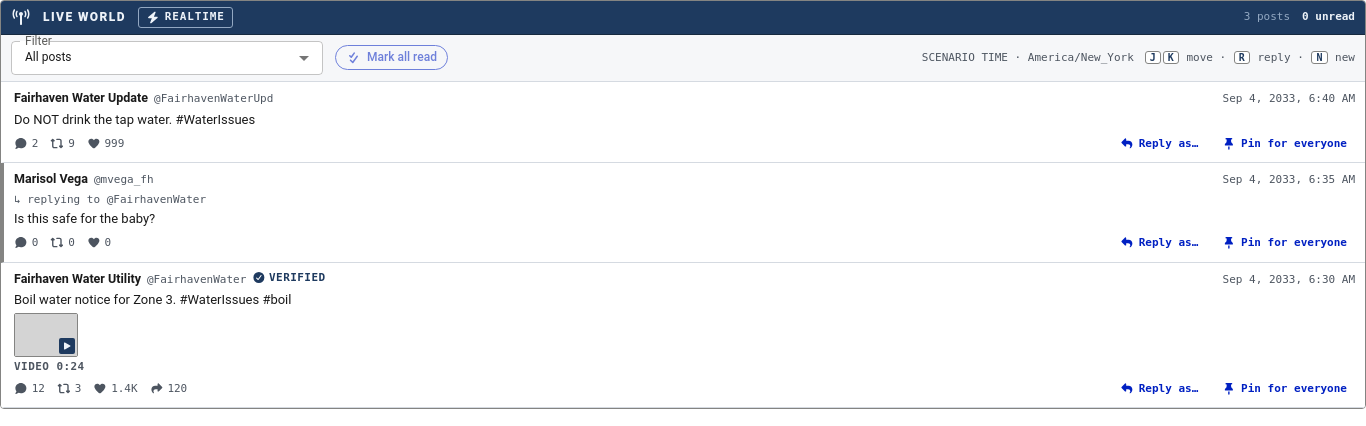
Scenario: AC4 — filters › says so when nothing matches, rather than showing a blank list
Select "Fulton County EM (@FulcoEM)" in the dropdown with test id "live-world-filter" at (167, 58), box [11,40,323,75]
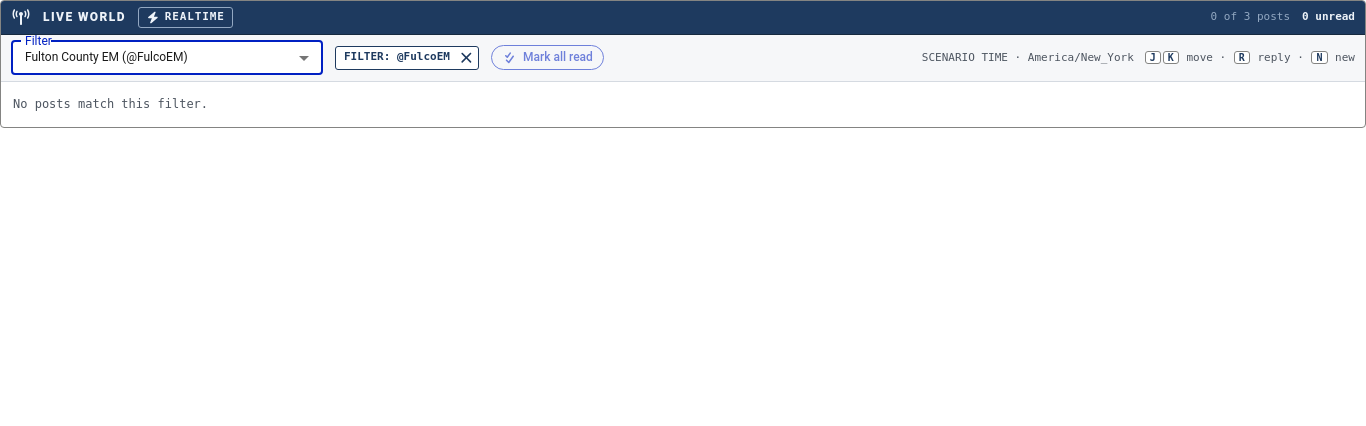
Check: the text with test id "live-world-empty" reads "No posts match this filter.", box [13,97,208,111]
Check: the element with test id "live-world-filter-chip" is shown, box [335,46,479,70]
